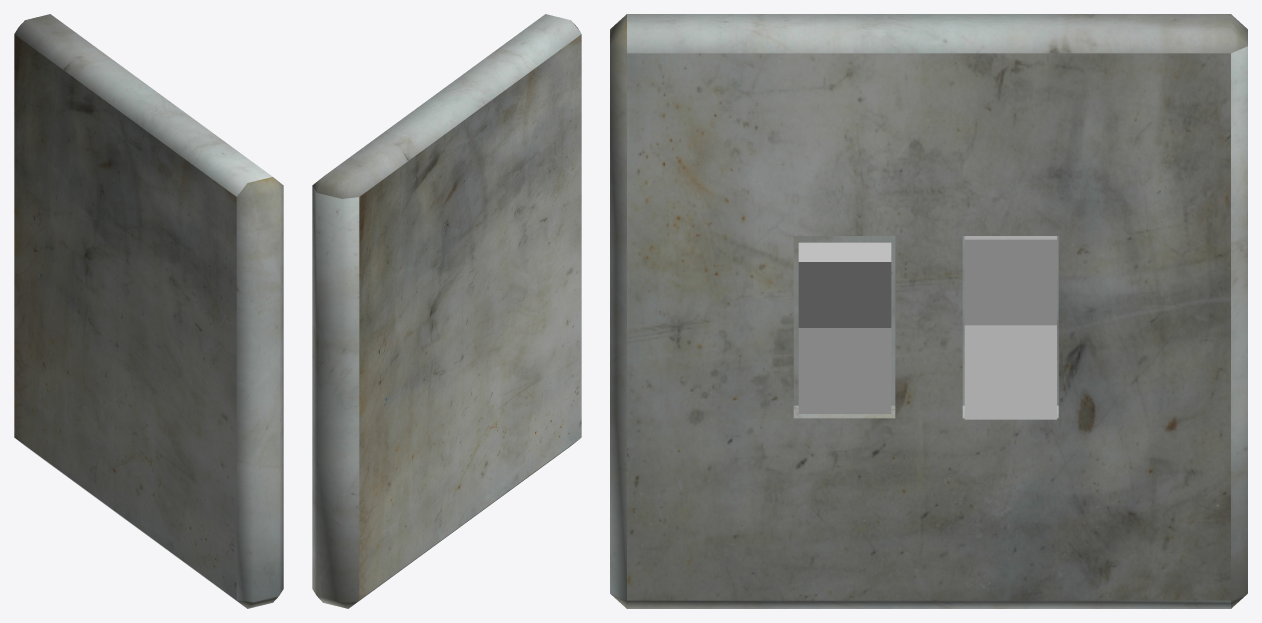
File: Vikluch.fbx
The picture shows the model from 3 angles, left to right: view 1: azimuth 30°, elevation 25°; view 2: azimuth 150°, elevation 25°; view 3: azimuth 270°, elevation 25°; orthographic projection. The views are drawn at different scales.
Visible parts, largest first — view 1: Cube; view 2: Cube; view 3: Cube, Cube.002, Cube.001.
Part boxes in pixels (x1,y1,x2,y2): Cube: (14, 14, 283, 608); Cube: (312, 14, 581, 608); Cube: (610, 14, 1247, 608); Cube.002: (964, 236, 1056, 419); Cube.001: (798, 242, 891, 413).
Bounding box in the file's own units: 33.72 × 200 × 200.
